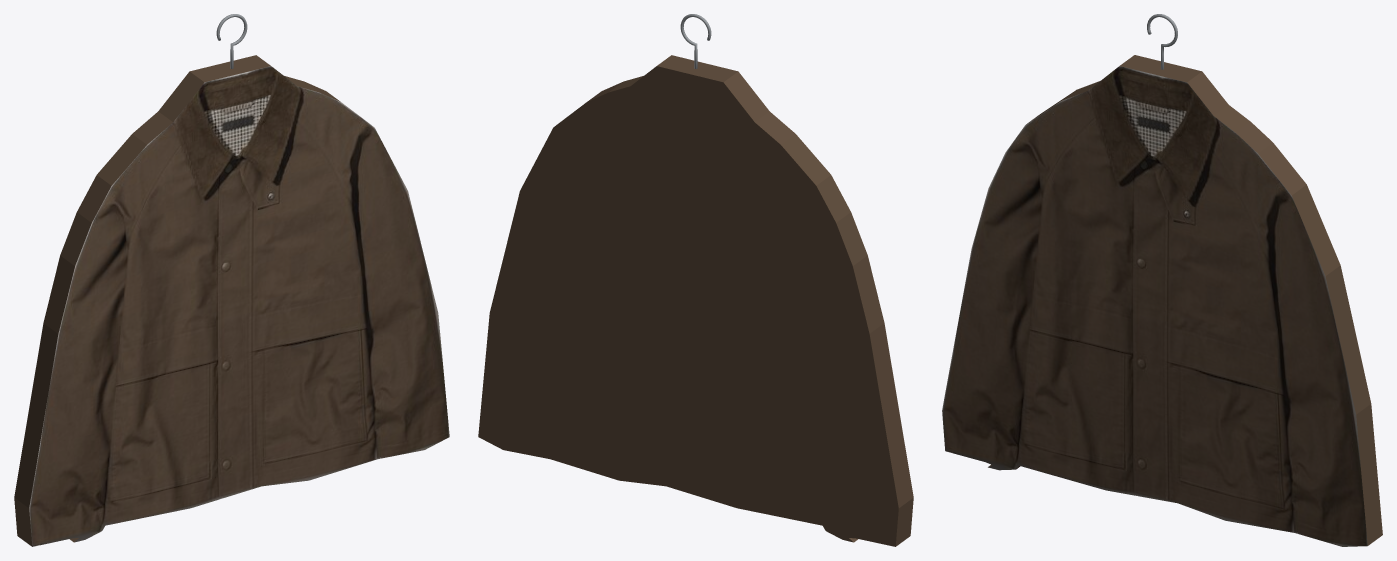
File: garment-autumn-jacket-v1.glb
The picture shows the model from 3 angles, left to right: view 1: azimuth 30°, elevation 25°; view 2: azimuth 150°, elevation 25°; view 3: azimuth 330°, elevation 25°; orthographic projection.
Parts seen in each view (by area): view 1: body; view 2: body; view 3: body.
Boxes of the visible parts, left/top/right/bottom form: body: left=14, top=55, right=449, bottom=546; body: left=478, top=55, right=913, bottom=546; body: left=942, top=55, right=1382, bottom=546.
Size of the model in its own units: 0.73 by 0.8 by 0.045.
Materials: 2 (1 with a texture image).
